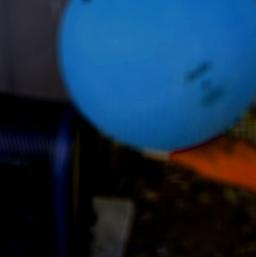algae: (54, 0, 256, 153)
